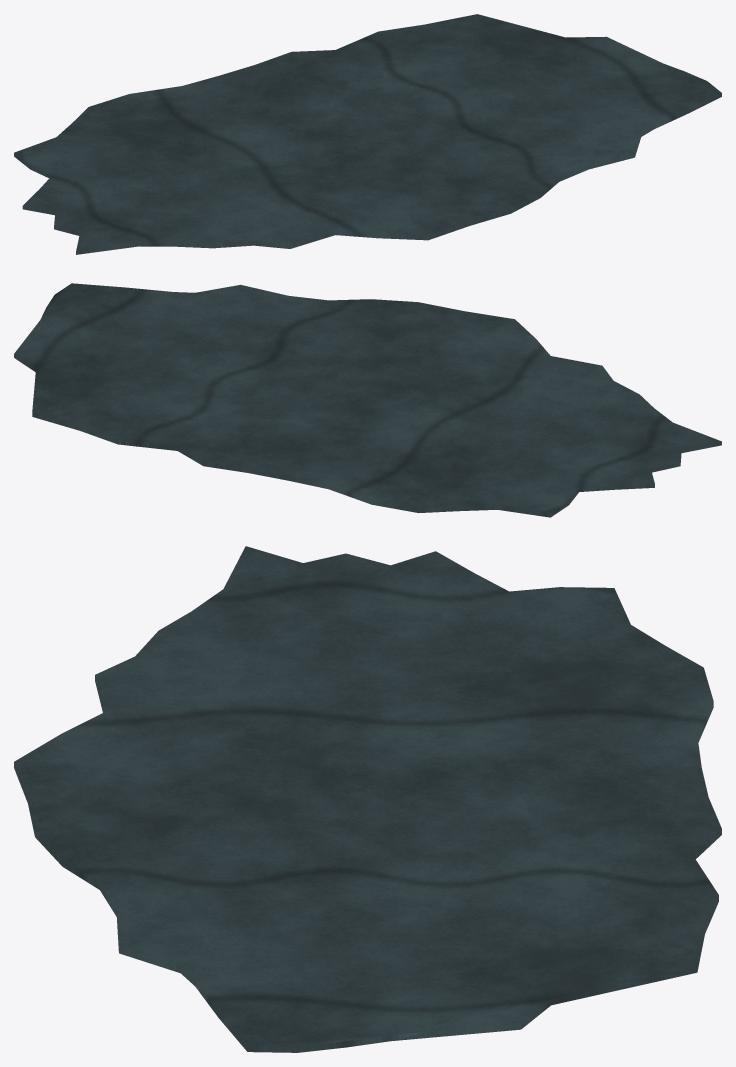
File: HILL_Puddle_1p7m.obj
The picture shows the model from 3 angles, top to bottom: view 1: azimuth 30°, elevation 25°; view 2: azimuth 150°, elevation 25°; view 3: azimuth 270°, elevation 25°; orthographic projection. The views are drawn at different scales.
Parts seen in each view (by area): view 1: HILL_Puddle_1p7m; view 2: HILL_Puddle_1p7m; view 3: HILL_Puddle_1p7m.
Boxes of the visible parts, left/top/right/bottom form: HILL_Puddle_1p7m: left=14, top=14, right=721, bottom=254; HILL_Puddle_1p7m: left=14, top=283, right=721, bottom=517; HILL_Puddle_1p7m: left=14, top=546, right=721, bottom=1052.
Bounding box in the file's own units: 1.75 × 0.01 × 1.05.
1 material, 1 textured.
